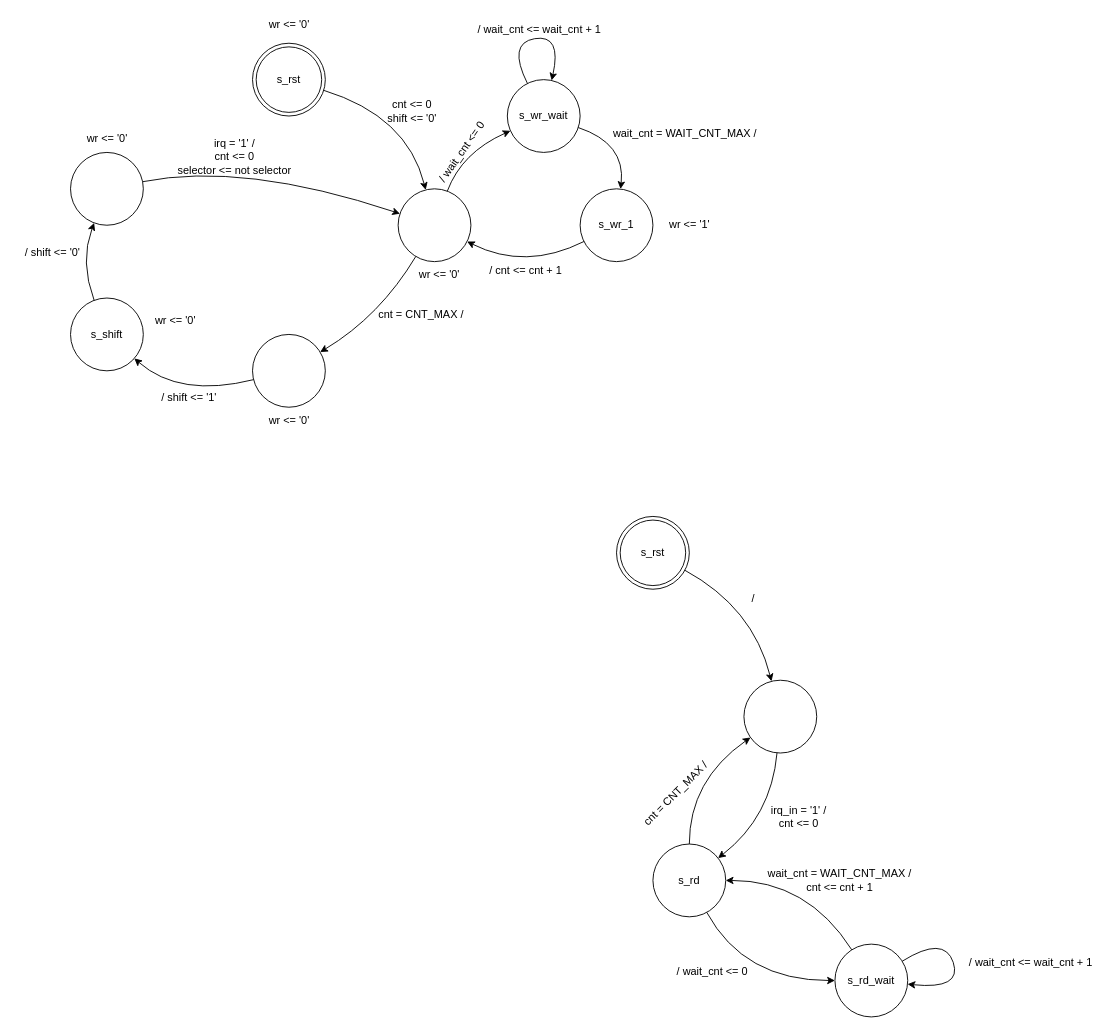
The diagram is 1114 pixels wide and 1033 high, and some of its shapes have lost their labels. The shapes that lost their labels are listed below. From the top down, each one's centre as x and y in pixels, then its label:
[106,188]: s_wait
[434,225]: s_wr_0
[288,370]: s_wr_done
[780,716]: s_wait_irq
